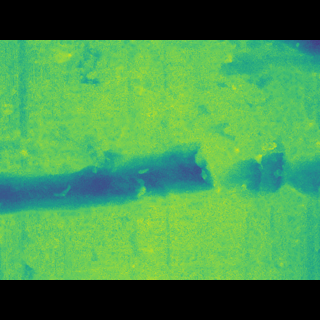Loch: (0, 69, 320, 251)
